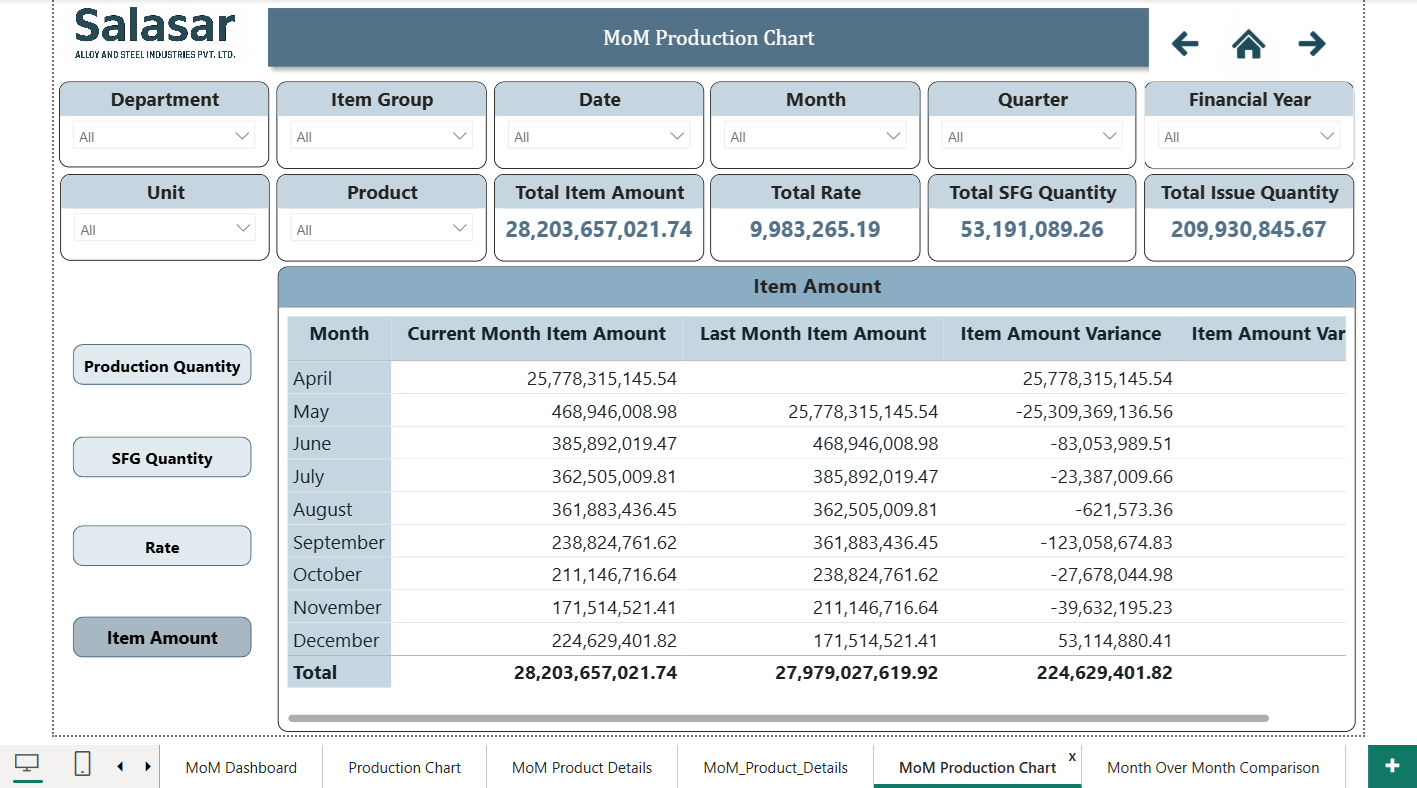

What the dashboard file says about the page in this screenshot:
{"tool":"powerbi","page":{"name":"MoM Production Chart","canvas":[1280,720],"ordinal":9},"visuals":[{"type":"image","box":[1128.7,3.8,80,80],"z":0,"group":"g1"},{"type":"image","box":[1066.2,3.8,80,80],"z":1000,"group":"g1"},{"type":"image","box":[1191.2,3.8,80,80],"z":2000,"group":"g1"},{"type":"tableEx","title":"Item Amount","fields":{"Values":["Calendar.Month","Sheet 1.Current Month Item Amount","Sheet 1.Last Month Item Amount","Sheet 1.Item Amount Variance","Sheet 1.Item Amount Variance %"]},"box":[218.9,261.7,1054.1,454.9],"z":3000},{"type":"slicer","title":"Department","fields":{"Values":["Sheet 1.Department Name"]},"box":[4.9,81,205.4,84.4],"z":4000},{"type":"slicer","title":"Item Group","fields":{"Values":["Sheet 1.Item Group Name"]},"box":[217.4,81,205.4,85.6],"z":5000},{"type":"actionButton","box":[18.6,515.2,175,40],"z":5000,"group":"g4"},{"type":"slicer","title":"Date","fields":{"Values":["Sheet 1.Doc Date"]},"box":[429.9,81,205.4,85.6],"z":6000},{"type":"actionButton","box":[18,428.4,175,40],"z":6000,"group":"g3"},{"type":"slicer","title":"Month","fields":{"Values":["Calendar.Month"]},"box":[642.5,81,205.4,85.6],"z":7000},{"type":"actionButton","box":[18.6,337.5,175,40],"z":7000,"group":"g2"},{"type":"actionButton","title":"IA Highlight","box":[18.8,604,175,40],"z":7019,"group":"g5"},{"type":"slicer","title":"Quarter","fields":{"Values":["Calendar.Qtr"]},"box":[855,81,204.2,85.6],"z":8000},{"type":"slicer","title":"Financial Year","fields":{"Values":["Calendar.Fiscal Year"]},"box":[1066.3,81,205.4,85.6],"z":9000},{"type":"slicer","title":"Unit","fields":{"Values":["Sheet 1.unit"]},"box":[6.1,171,205,85],"z":10000},{"type":"card","title":"Total Item Amount ","fields":{"Values":["Sum(Sheet 1.ItemAmount)"]},"box":[430.4,171,205.4,85.6],"z":11000},{"type":"card","title":"Total Rate","fields":{"Values":["Sum(Sheet 1.Rate)"]},"box":[642,171,205.4,85.6],"z":12000},{"type":"card","title":"Total SFG Quantity","fields":{"Values":["Sum(Sheet 1.SFG Quantity)"]},"box":[854.8,171,204.2,85.6],"z":13000},{"type":"card","title":"Total Issue Quantity","fields":{"Values":["Sum(Sheet 1.Issue Quantity)"]},"box":[1066.3,171,205.4,85.6],"z":14000},{"type":"slicer","title":"Product","fields":{"Values":["Sheet 1.Product Name"]},"box":[217.7,171,205.4,85.6],"z":15000},{"type":"shape","box":[200,0,880,75],"z":16000},{"type":"image","box":[0,0,199.3,66],"z":17000},{"type":"group","id":"g1","title":"Group 1","box":[1066.2,3.8,205,80],"z":18000},{"type":"group","id":"g2","title":"Group 2","box":[18,337,175.6,40.5],"z":19000},{"type":"group","id":"g3","title":"Group 3","box":[18,428,175.8,40.4],"z":20000},{"type":"group","id":"g4","title":"Group 4","box":[18.6,515,175.2,40.2],"z":21000},{"type":"group","id":"g5","title":"Group 5","box":[18.6,604,175.2,40.1],"z":22000}]}

Visuals, with their boxes on the page's 1280x720 design canvas (x1, y1, x2, y2). These are canvas units, not pixel positions in the 1417x788 screenshot, which may show the page scaled, cropped or inside an application window:
image: 1129 4 1209 84
image: 1066 4 1146 84
image: 1191 4 1271 84
"Item Amount" tableEx: 219 262 1273 717
"Department" slicer: 5 81 210 165
"Item Group" slicer: 217 81 423 167
actionButton: 19 515 194 555
"Date" slicer: 430 81 635 167
actionButton: 18 428 193 468
"Month" slicer: 642 81 848 167
actionButton: 19 338 194 378
"IA Highlight" actionButton: 19 604 194 644
"Quarter" slicer: 855 81 1059 167
"Financial Year" slicer: 1066 81 1272 167
"Unit" slicer: 6 171 211 256
"Total Item Amount " card: 430 171 636 257
"Total Rate" card: 642 171 847 257
"Total SFG Quantity" card: 855 171 1059 257
"Total Issue Quantity" card: 1066 171 1272 257
"Product" slicer: 218 171 423 257
shape: 200 0 1080 75
image: 0 0 199 66
"Group 1" group: 1066 4 1271 84
"Group 2" group: 18 337 194 378
"Group 3" group: 18 428 194 468
"Group 4" group: 19 515 194 555
"Group 5" group: 19 604 194 644
